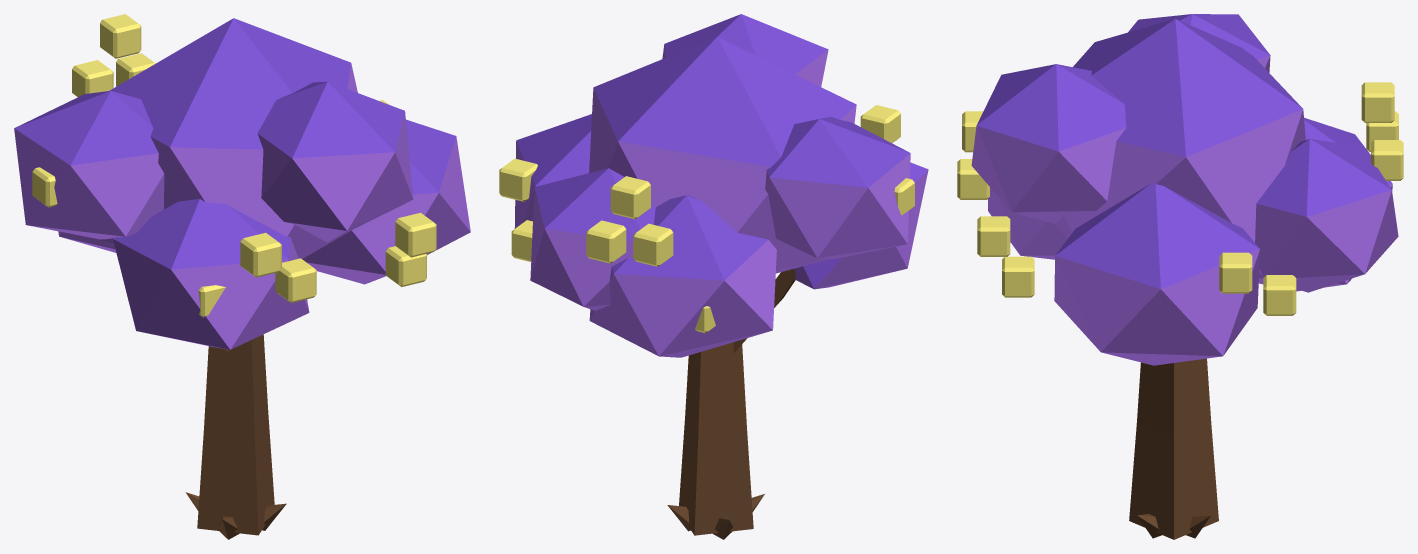
Rendered from MagicTree.fbx.
3 renders of one model, left to right at view 1: azimuth 30°, elevation 25°; view 2: azimuth 150°, elevation 25°; view 3: azimuth 270°, elevation 25°, orthographic. The views are drawn at different scales.
Visible parts, largest first — view 1: MagicTree; view 2: MagicTree; view 3: MagicTree.
Part boxes in pixels (x1=…): MagicTree: x1=14, y1=14, x2=470, y2=539; MagicTree: x1=499, y1=14, x2=928, y2=539; MagicTree: x1=957, y1=14, x2=1403, y2=539.
Bounding box in the file's own units: 12.36 × 14.39 × 11.42.
Materials: 1 (1 with a texture image).
